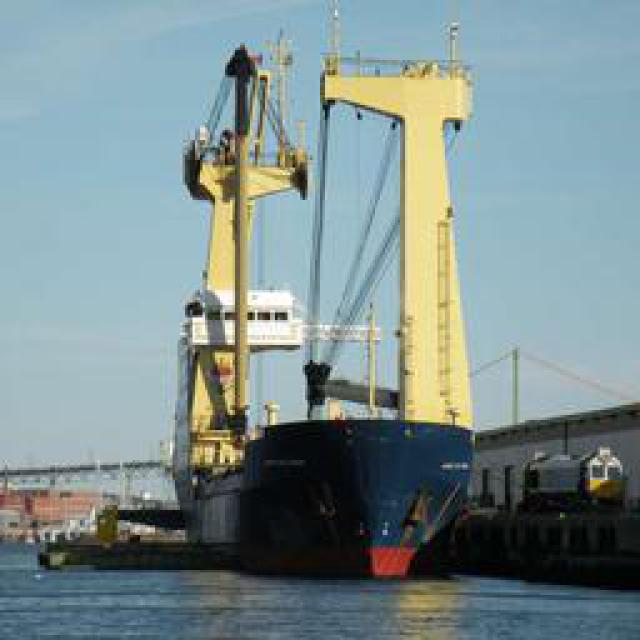Ship: (159, 17, 482, 587)
